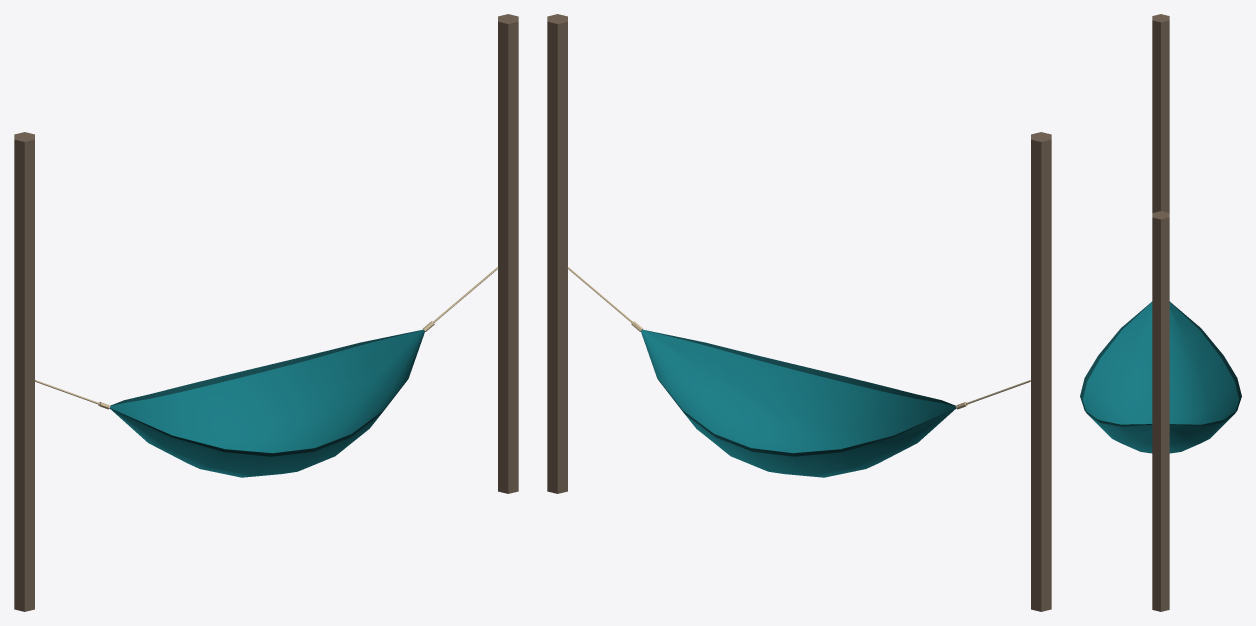
File: vong_du_cafe.far.glb
The picture shows the model from 3 angles, left to right: view 1: azimuth 30°, elevation 25°; view 2: azimuth 150°, elevation 25°; view 3: azimuth 270°, elevation 25°; orthographic projection. The views are drawn at different scales.
Visible parts, largest first — view 1: bed_vong_du_cafe, vong_du_cafe; view 2: bed_vong_du_cafe, vong_du_cafe; view 3: bed_vong_du_cafe, vong_du_cafe.
Part boxes in pixels (box(x1,y1,x2,y2)): bed_vong_du_cafe: box(35, 267, 498, 477); vong_du_cafe: box(14, 14, 518, 611); bed_vong_du_cafe: box(567, 267, 1030, 477); vong_du_cafe: box(547, 14, 1051, 611); bed_vong_du_cafe: box(1080, 301, 1241, 453); vong_du_cafe: box(1152, 14, 1169, 611).
Size of the model in its own units: 2.92 by 2.6 by 0.9725.
